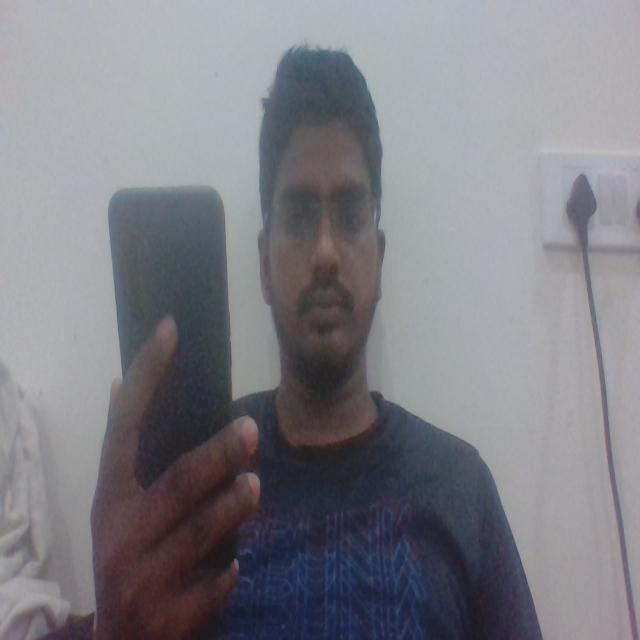Phone: (105, 183, 238, 486)
